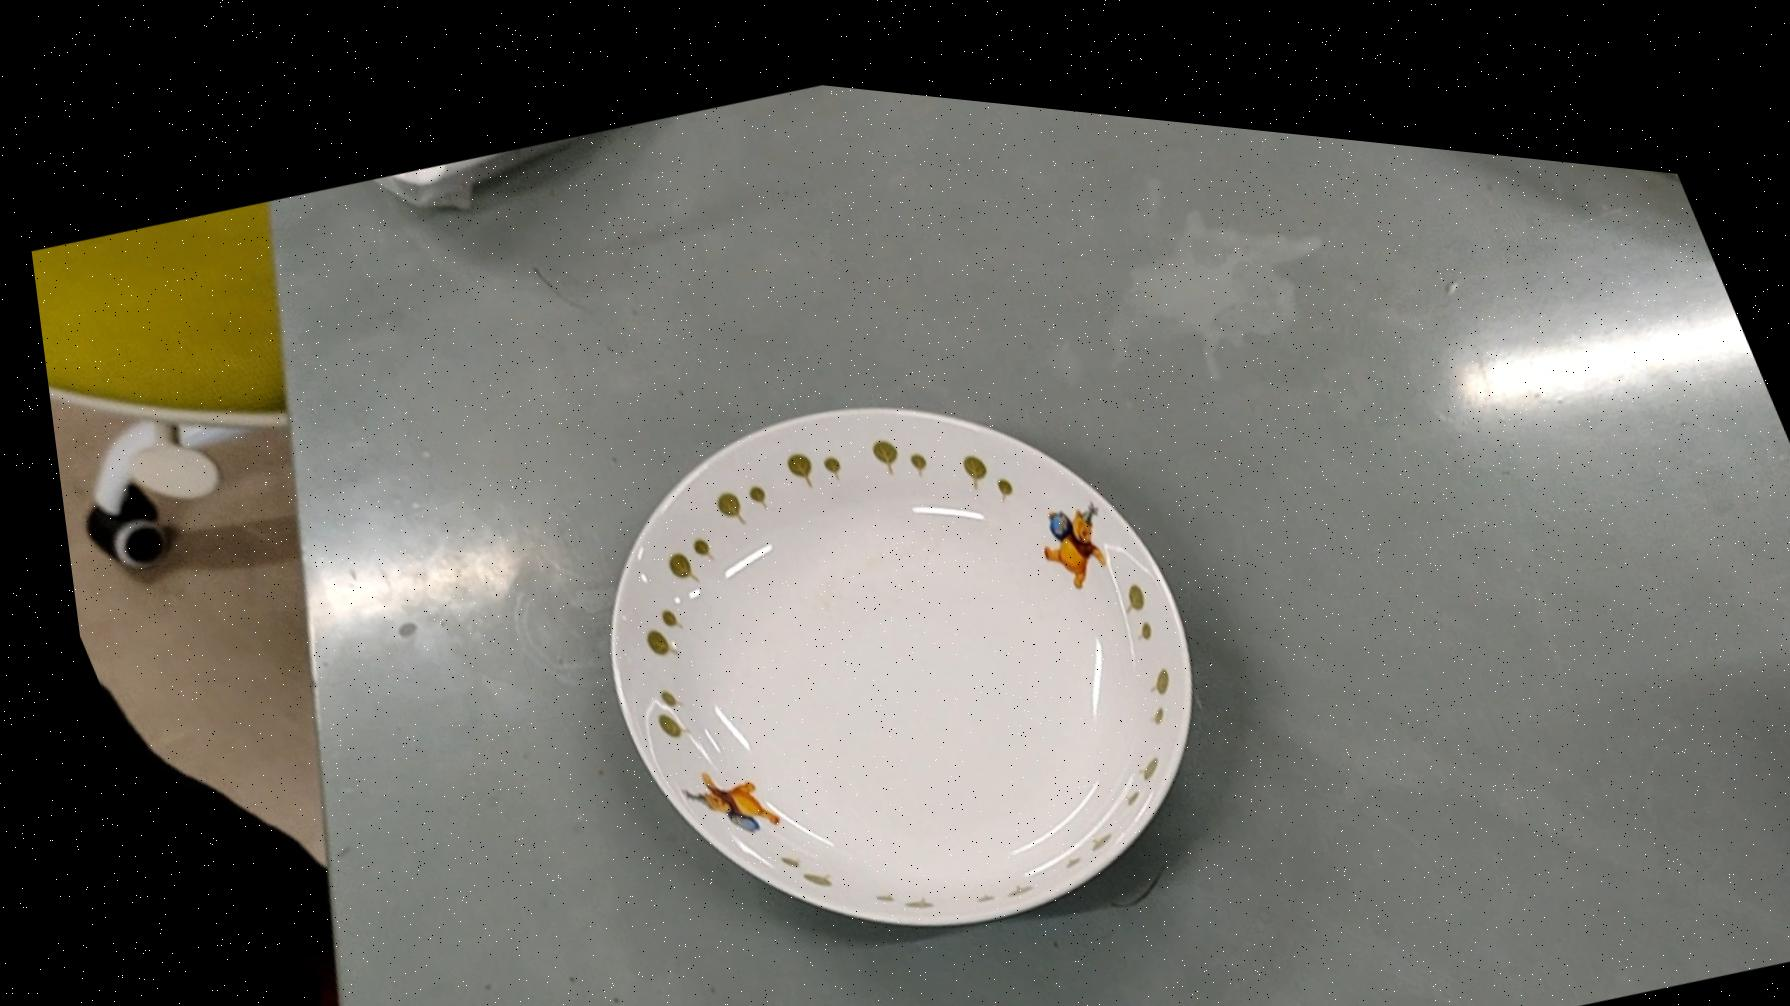plate: (494, 289, 1281, 1006)
